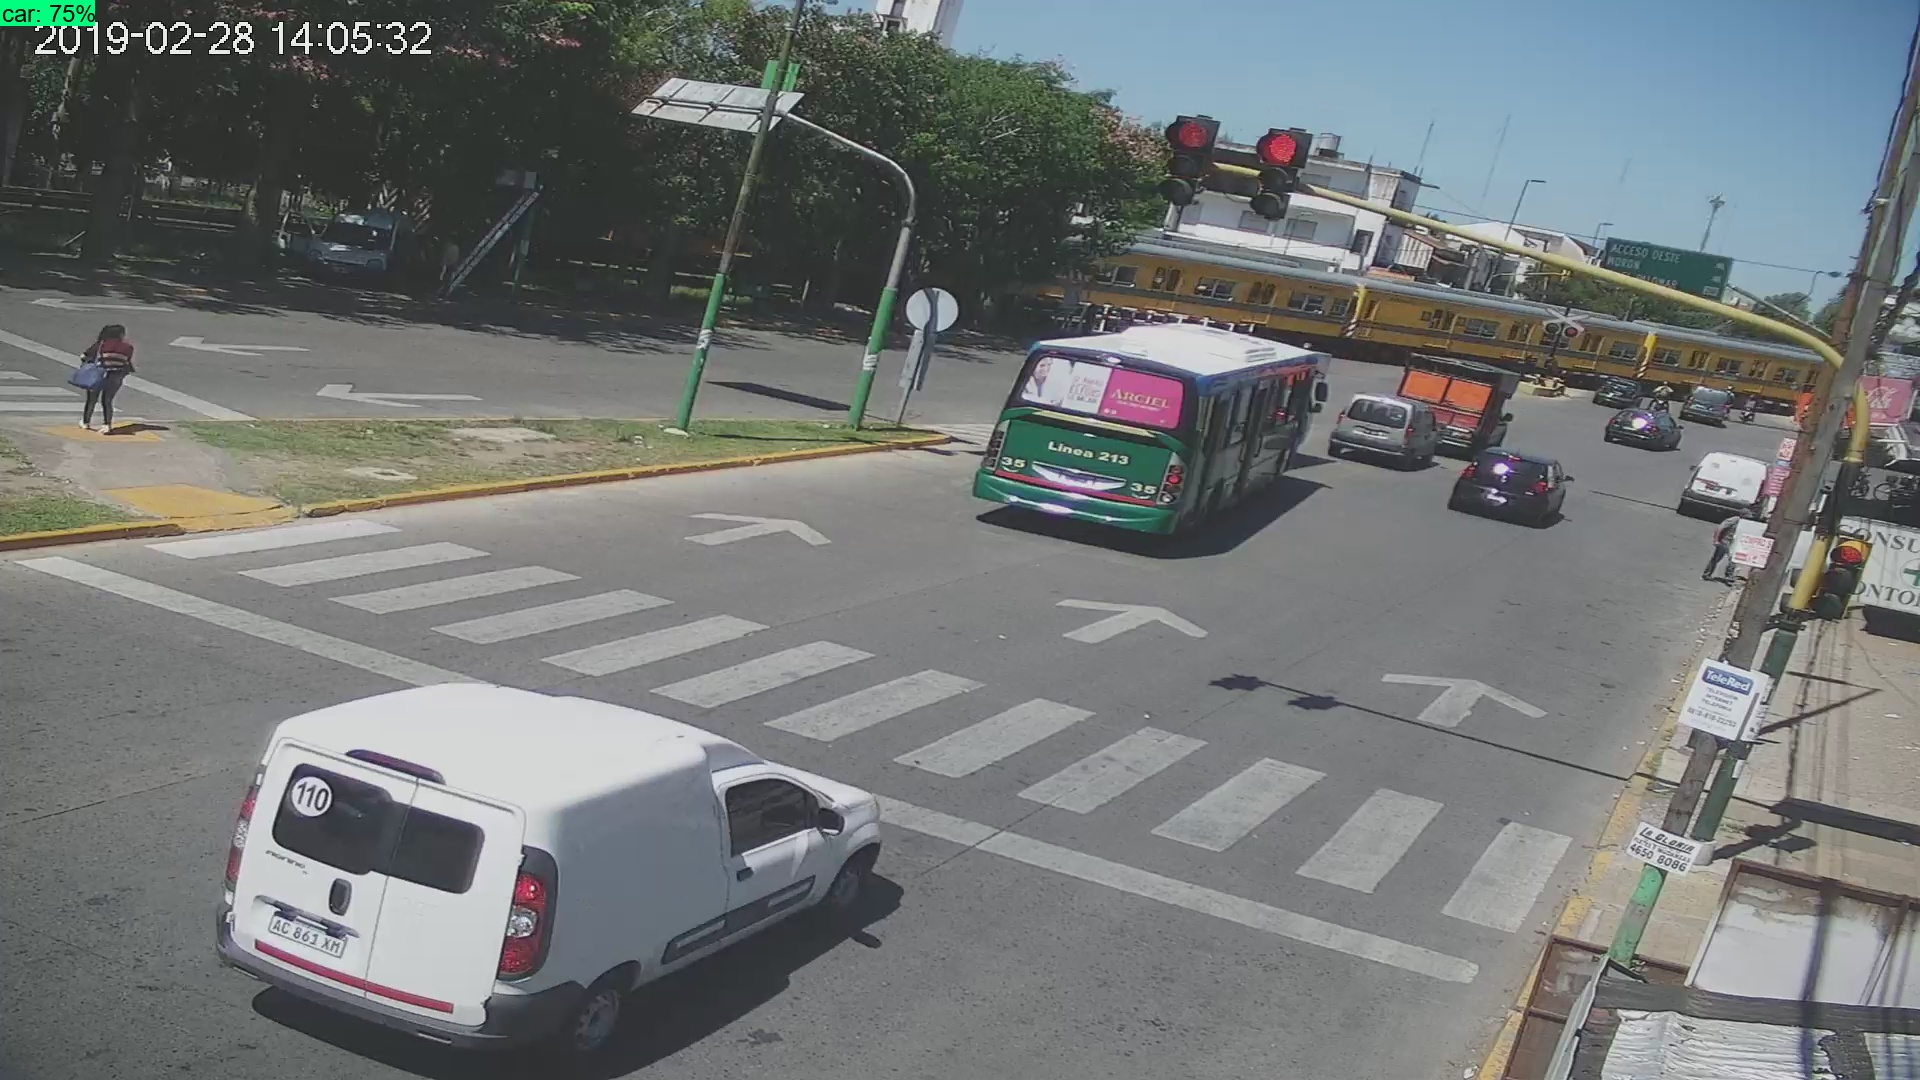bus: (961, 323, 1342, 560)
car: (190, 684, 899, 1080), (1443, 444, 1578, 533), (1327, 396, 1449, 476), (1671, 439, 1774, 531), (1592, 398, 1698, 463)
